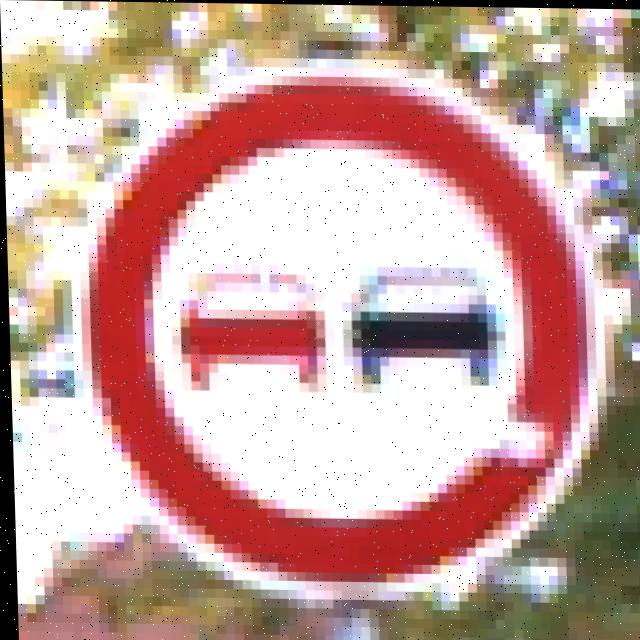no_overtaking: (78, 54, 586, 576)
